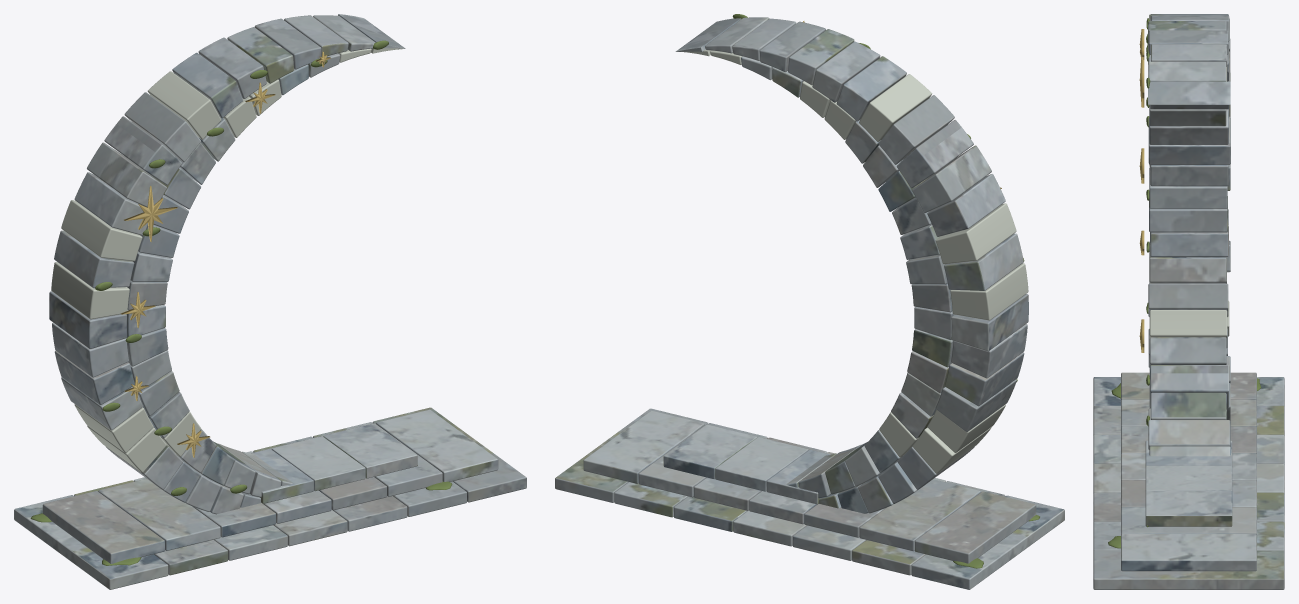
File: SM_SP_CrescentGate.fbx
The picture shows the model from 3 angles, left to right: view 1: azimuth 30°, elevation 25°; view 2: azimuth 150°, elevation 25°; view 3: azimuth 270°, elevation 25°; orthographic projection.
Parts seen in each view (by area): view 1: SM_SP_CrescentGate; view 2: SM_SP_CrescentGate; view 3: SM_SP_CrescentGate.
Boxes of the visible parts, bbox=[...] form: SM_SP_CrescentGate: bbox=[14, 14, 526, 589]; SM_SP_CrescentGate: bbox=[555, 14, 1064, 589]; SM_SP_CrescentGate: bbox=[1093, 14, 1284, 589].
Bounding box in the file's own units: 5.64 × 2.25 × 6.
